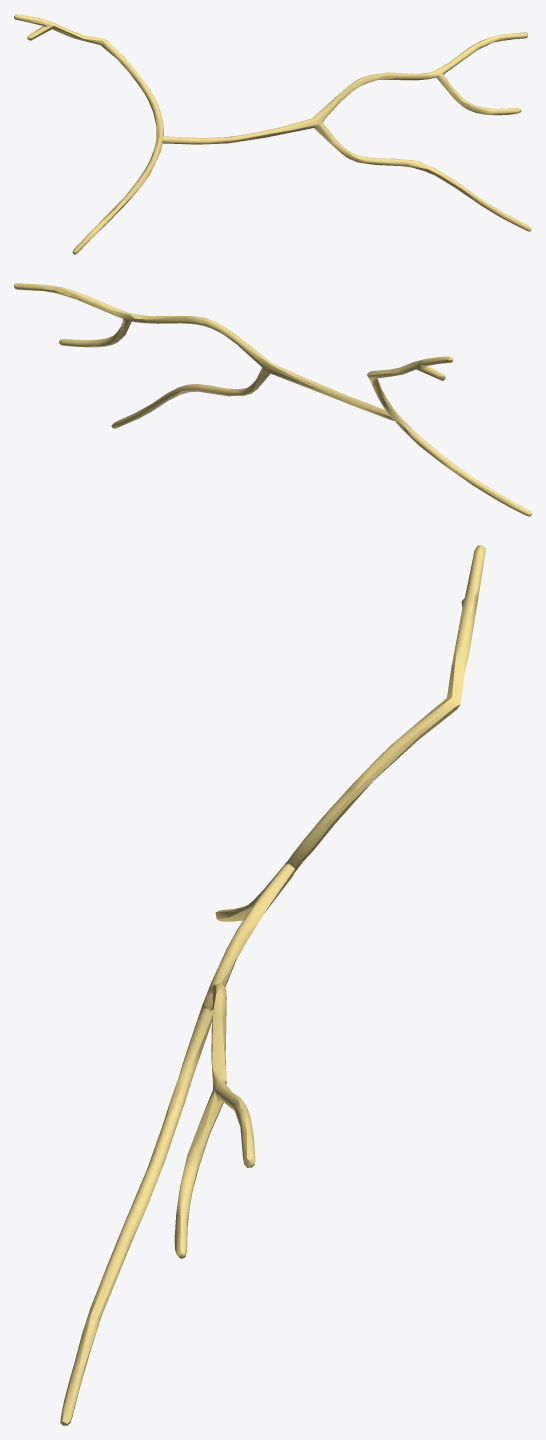
File: fma6115_cx122.glb
The picture shows the model from 3 angles, top to bottom: view 1: azimuth 30°, elevation 25°; view 2: azimuth 150°, elevation 25°; view 3: azimuth 270°, elevation 25°; orthographic projection. The views are drawn at different scales.
Parts seen in each view (by area): view 1: FMA6115_CX122; view 2: FMA6115_CX122; view 3: FMA6115_CX122.
Boxes of the visible parts, x1=… form: FMA6115_CX122: x1=14, y1=14, x2=531, y2=254; FMA6115_CX122: x1=14, y1=283, x2=531, y2=516; FMA6115_CX122: x1=60, y1=545, x2=485, y2=1425.
Bounding box in the file's own units: 0.0416 × 0.0207 × 0.0166.
